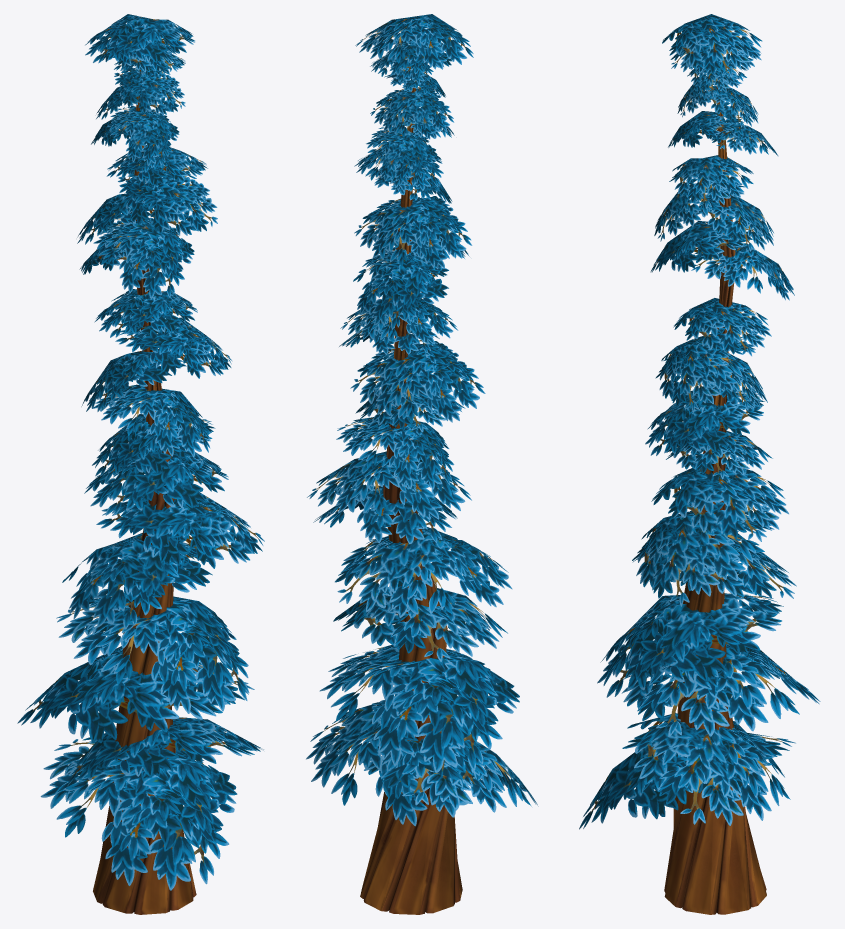
The model's file is 8_Azul.fbx.
3 views of the same model, side by side, from view 1: azimuth 30°, elevation 25°; view 2: azimuth 150°, elevation 25°; view 3: azimuth 270°, elevation 25° (orthographic).
Visible parts, largest first — view 1: 8_Azul_LOD_0; view 2: 8_Azul_LOD_0; view 3: 8_Azul_LOD_0.
Part boxes in pixels (left/top/right/bottom): 8_Azul_LOD_0: left=17, top=14, right=264, bottom=914; 8_Azul_LOD_0: left=306, top=14, right=538, bottom=914; 8_Azul_LOD_0: left=579, top=14, right=820, bottom=914.
Bounding box in the file's own units: 735 × 2730 × 727.
